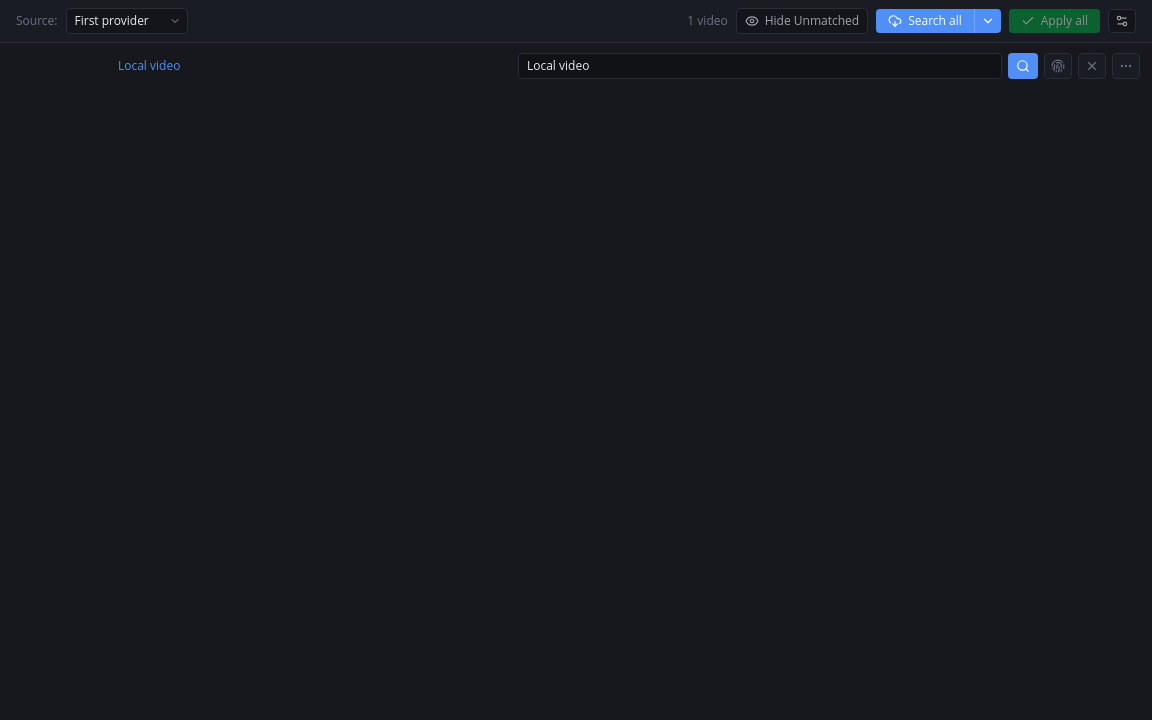
VideoTagger › reads a legacy config with no gender checked as the filter it actually was: none
Click the button named "Tagger settings" at (1122, 21), box x1=1108 y1=9 x2=1136 y2=33
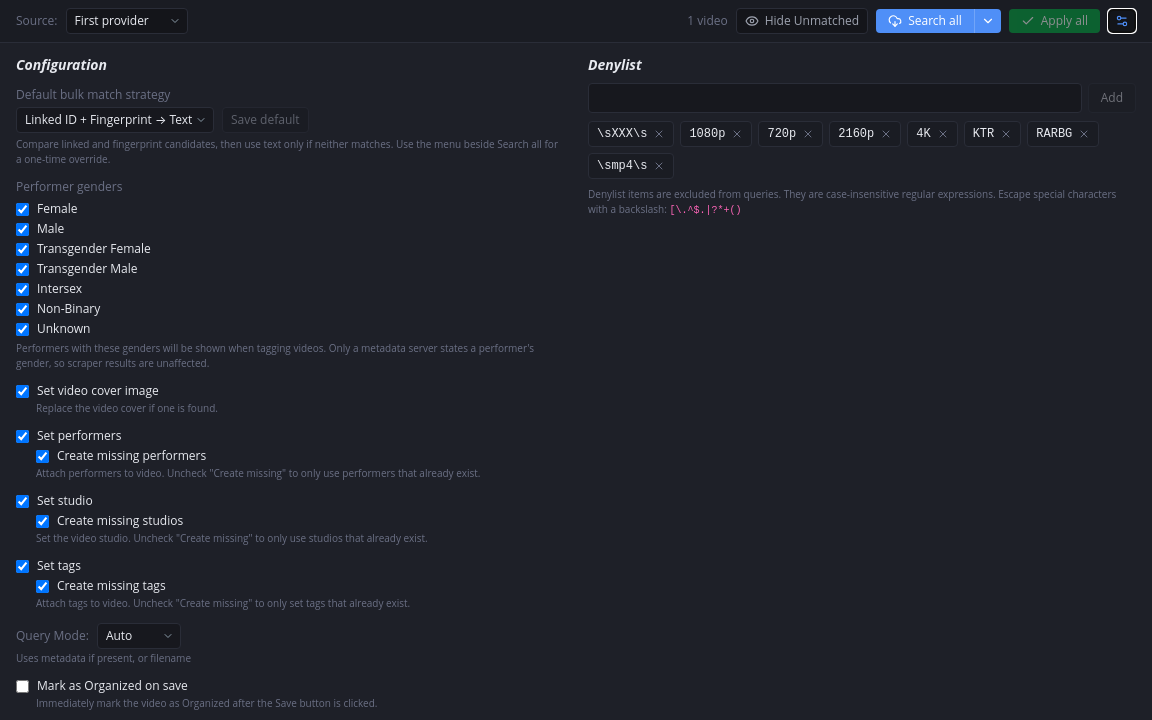
expect the checkbox labelled "Female" is checked: met, box x1=16 y1=202 x2=29 y2=216
expect the checkbox labelled "Male" is checked: met, box x1=16 y1=222 x2=29 y2=236
expect the checkbox labelled "Unknown" is checked: met, box x1=16 y1=322 x2=29 y2=336
